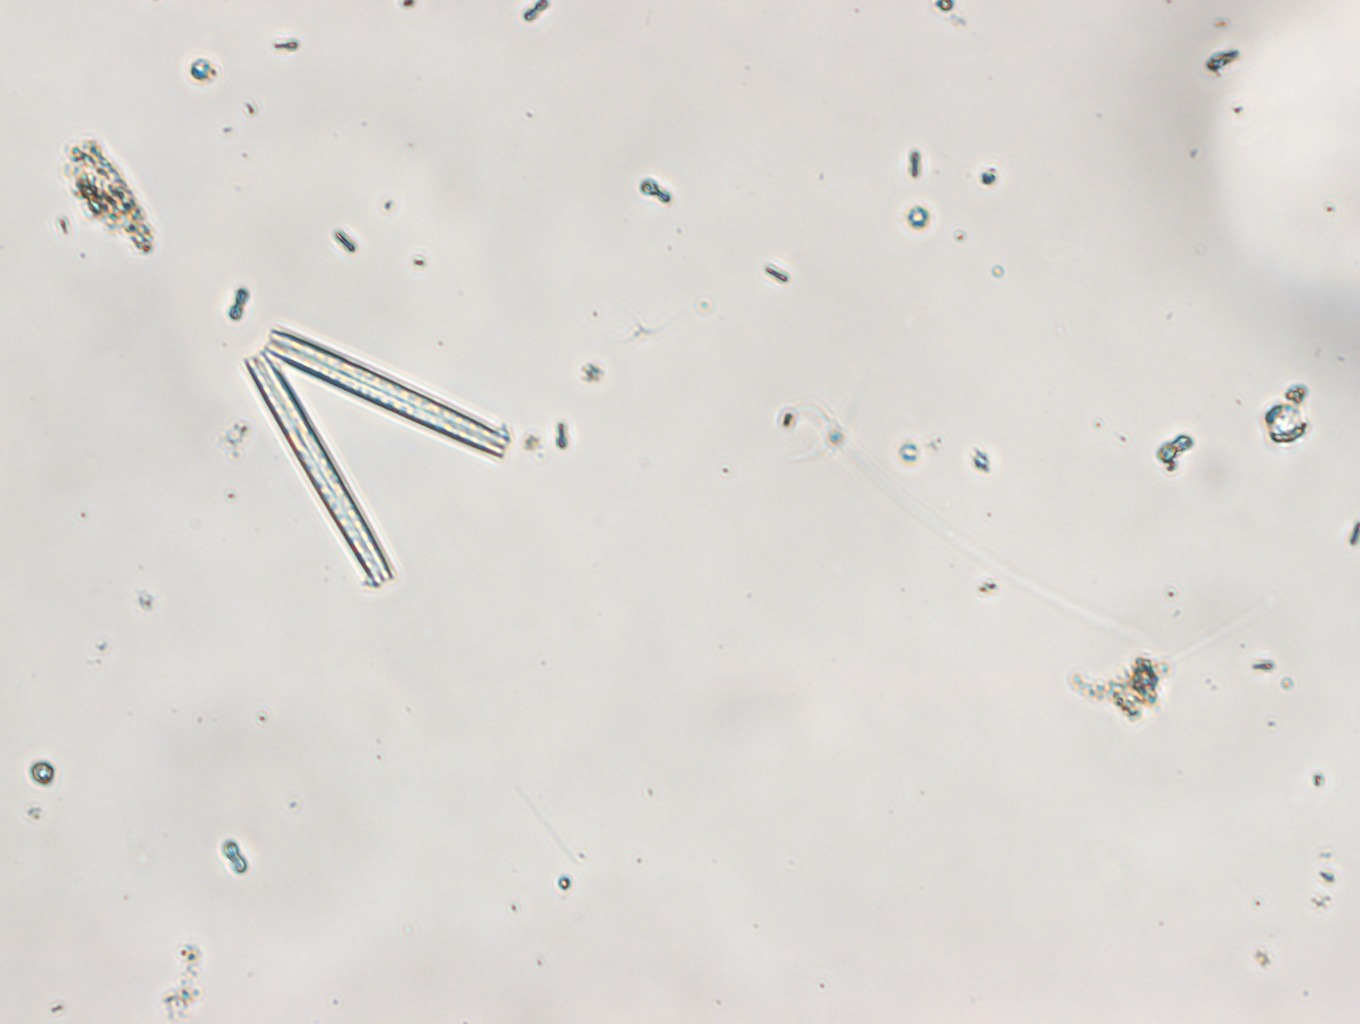thalassionema nitzschioides: (237, 326, 515, 594)
